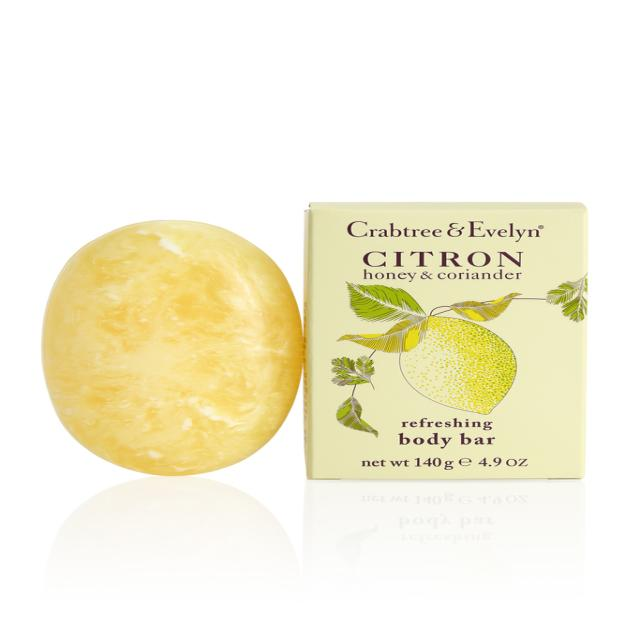Lemon: (398, 317, 520, 417)
